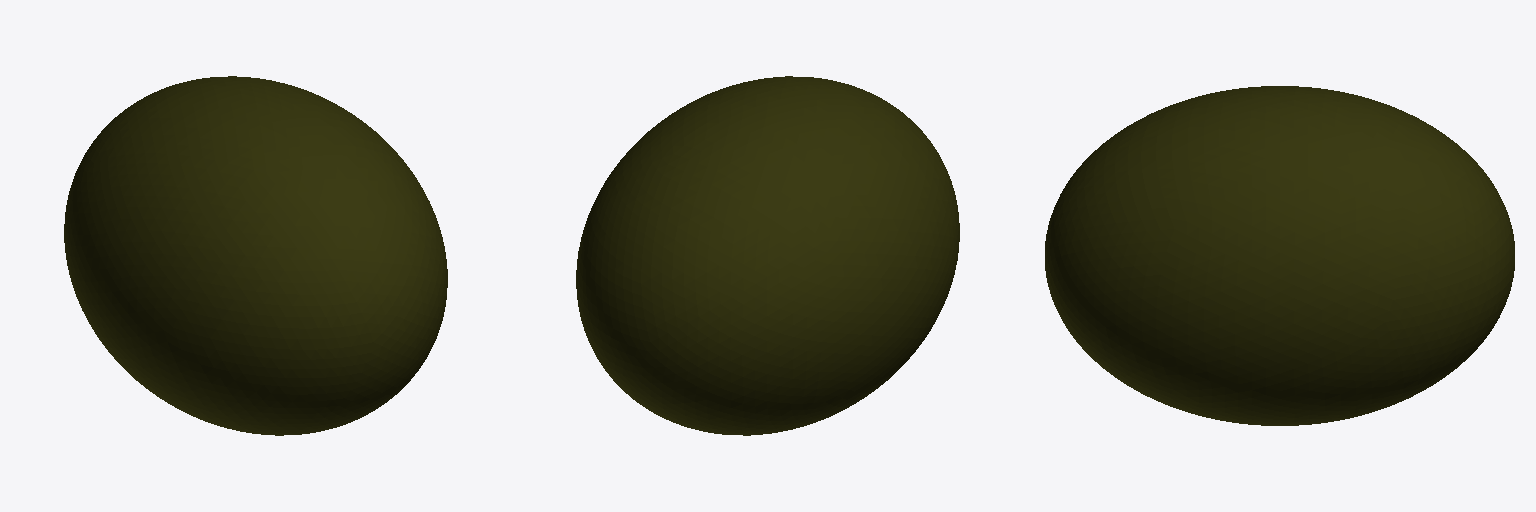
The model's file is coconuts.obj.
3 renders of one model, left to right at view 1: azimuth 30°, elevation 25°; view 2: azimuth 150°, elevation 25°; view 3: azimuth 270°, elevation 25°, orthographic.
Parts seen in each view (by area): view 1: Object.1; view 2: Object.1; view 3: Object.1.
Part boxes in pixels (x1,y1,x2,y2): Object.1: (64,76,447,435); Object.1: (576,76,959,435); Object.1: (1045,86,1514,425).
Size of the model in its own units: 36.33 by 35.11 by 48.91.